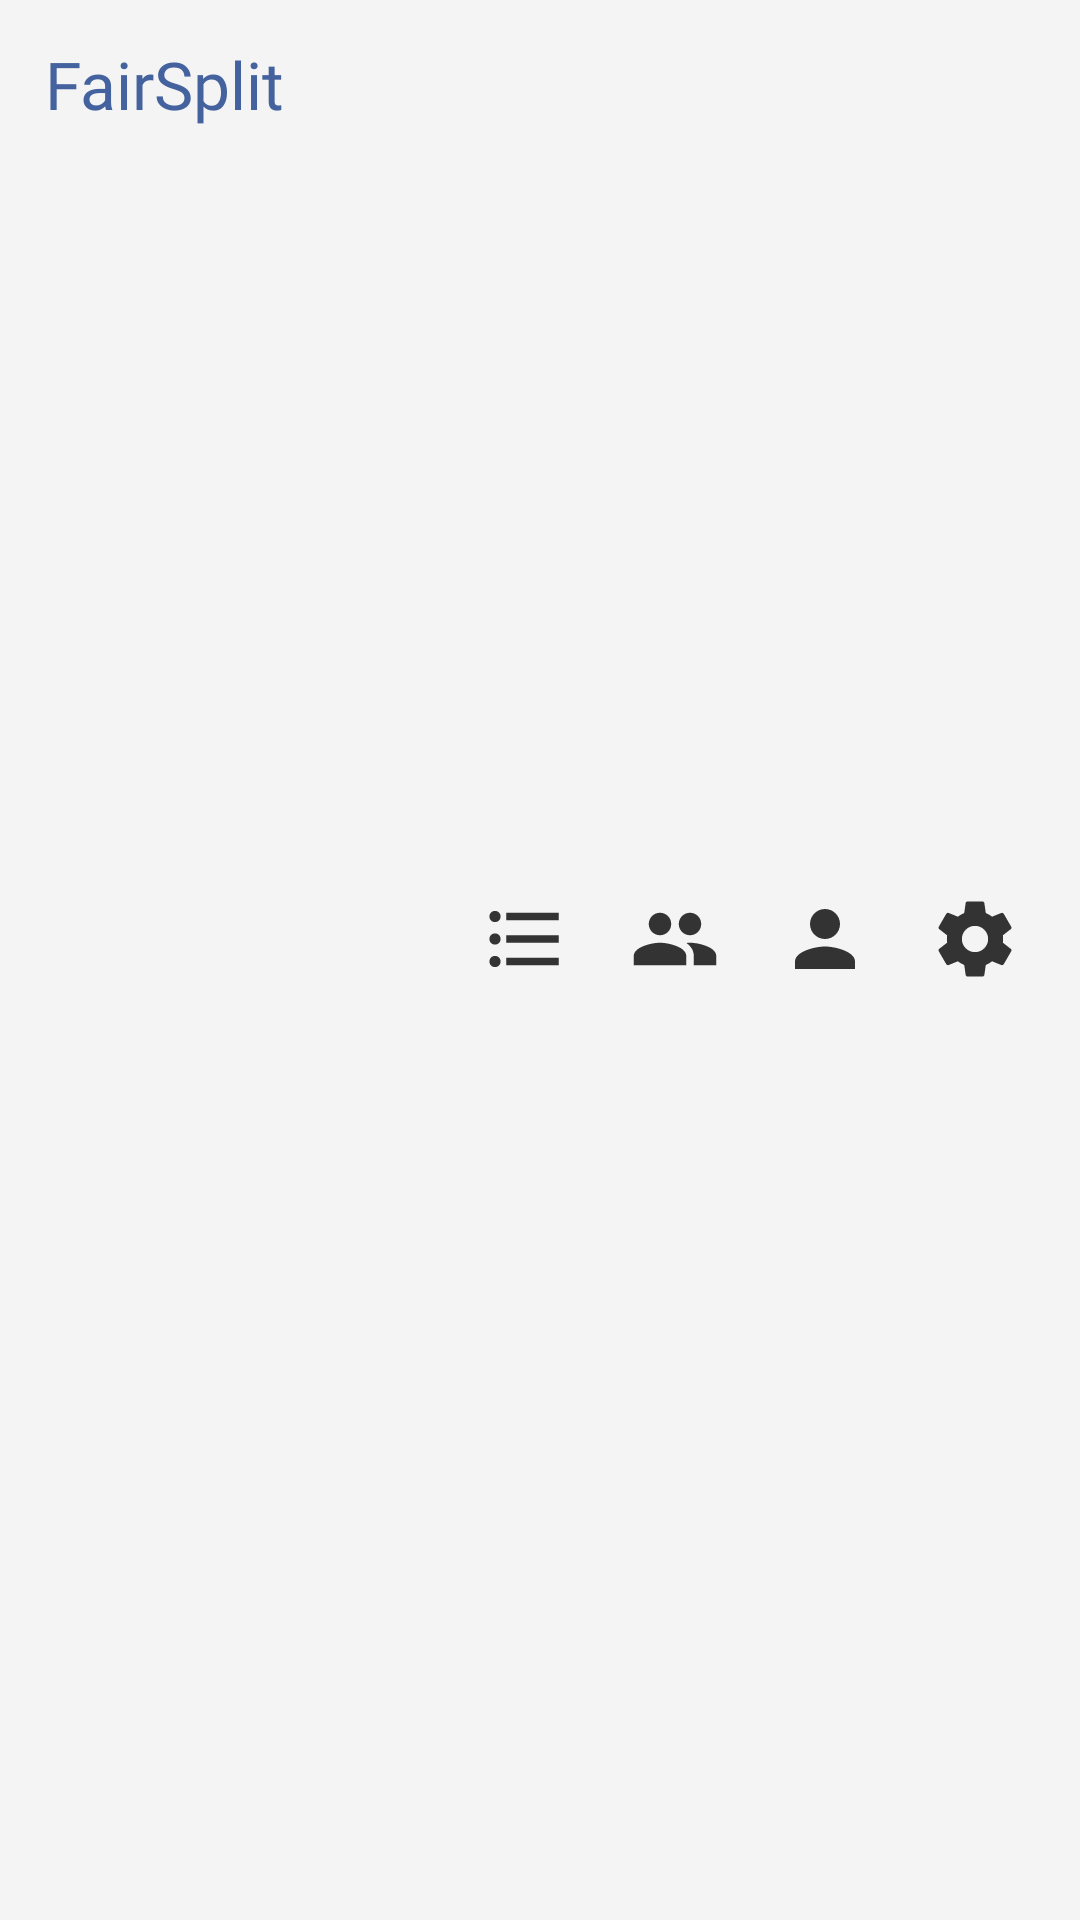

Where to tap for icons on this 1080×1920 app screen, as (x,y):
format list bulleted: (524,939)
person: (825,939)
